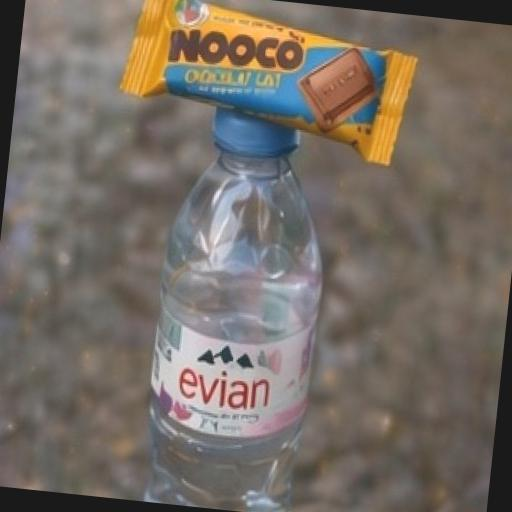nooco: (112, 0, 438, 194)
